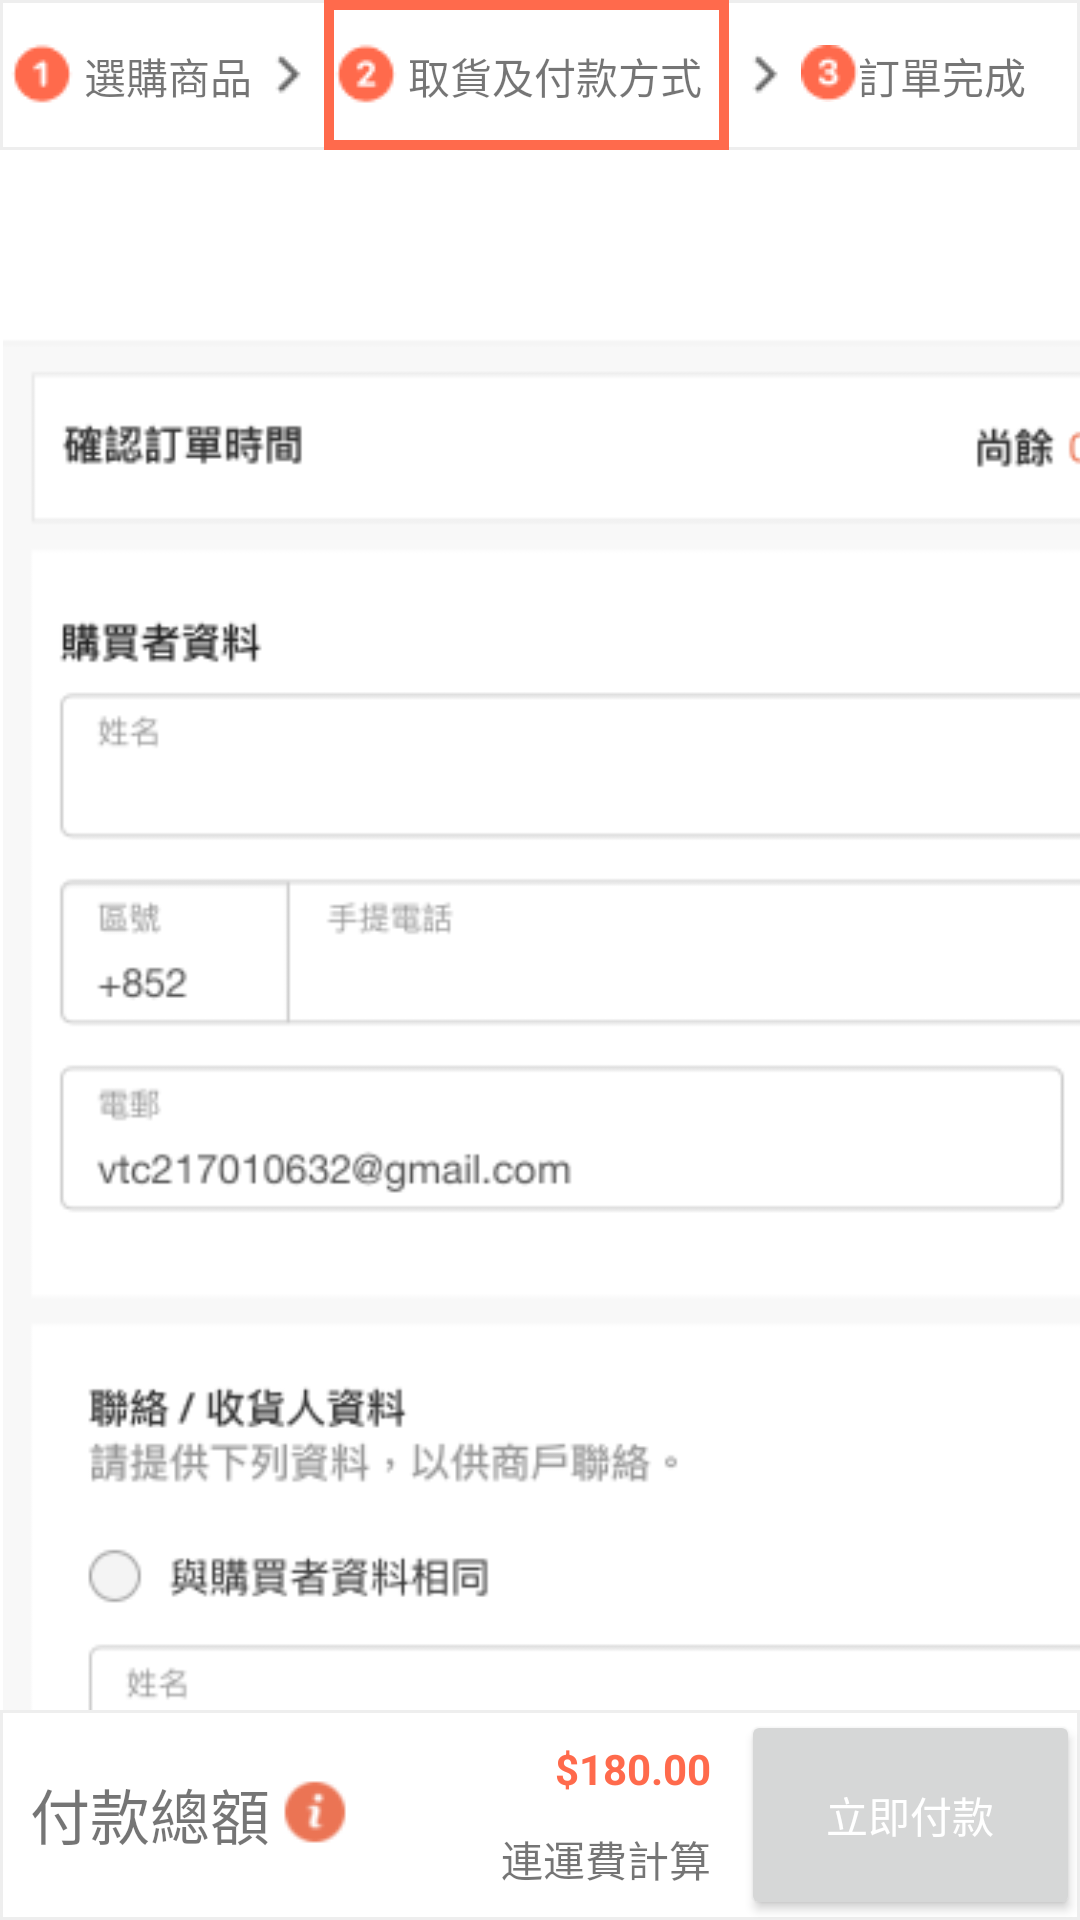

Point at icon controls on the screen. Image size 1080 × 1920, points as point (x, y).
info: point (315, 1812)
keyboard arrow right: point (289, 74), point (766, 74)
